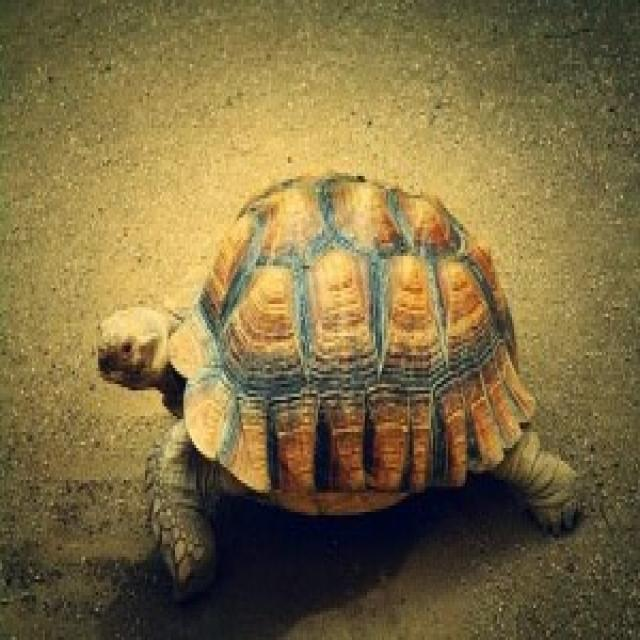Sea turtle: (77, 168, 595, 609)
